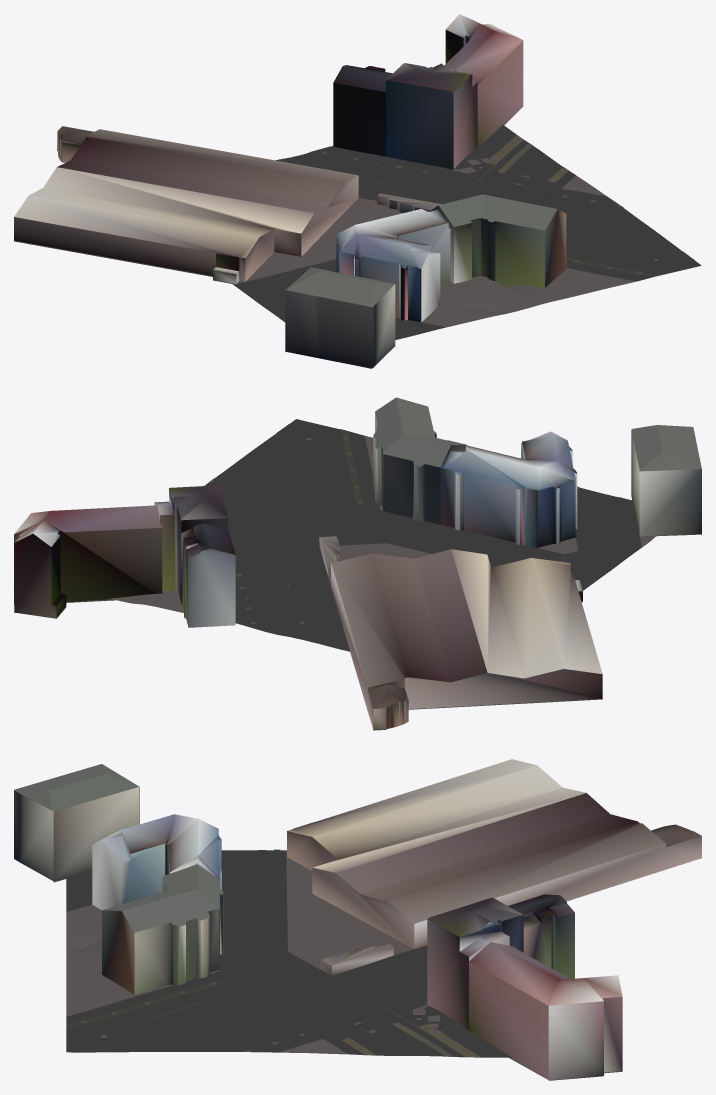
3 renders of one model, top to bottom at view 1: azimuth 30°, elevation 25°; view 2: azimuth 150°, elevation 25°; view 3: azimuth 270°, elevation 25°, orthographic. The views are drawn at different scales.
Visible parts, largest first — view 1: c_m13_m13; view 2: c_m13_m13; view 3: c_m13_m13.
Boxes of the visible parts, x1,y1,x2,y2 form: c_m13_m13: [14, 14, 701, 368]; c_m13_m13: [14, 397, 701, 730]; c_m13_m13: [14, 759, 701, 1080].
Bounding box in the file's own units: 182 × 29.77 × 183.
